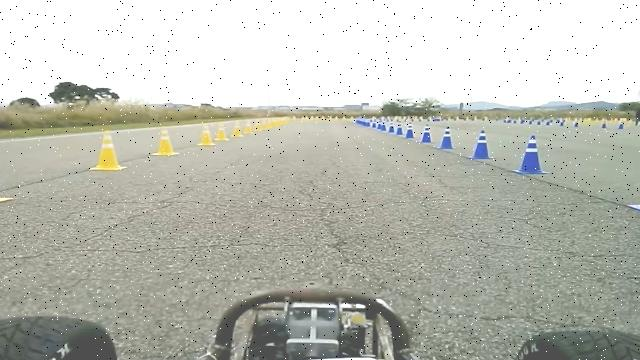blue cone: (511, 134, 551, 174), (467, 130, 497, 160), (628, 150, 640, 214), (437, 126, 457, 150), (419, 123, 434, 143), (404, 121, 415, 139), (396, 122, 404, 135), (380, 118, 386, 132), (388, 121, 394, 134), (376, 120, 381, 130), (372, 119, 376, 129), (366, 121, 371, 126), (362, 120, 365, 127)
yellow cone: (89, 129, 128, 171), (0, 139, 15, 206), (152, 126, 180, 156), (197, 124, 216, 146), (214, 122, 229, 140), (231, 121, 244, 138), (244, 120, 254, 134), (276, 116, 288, 127), (262, 118, 272, 131)
